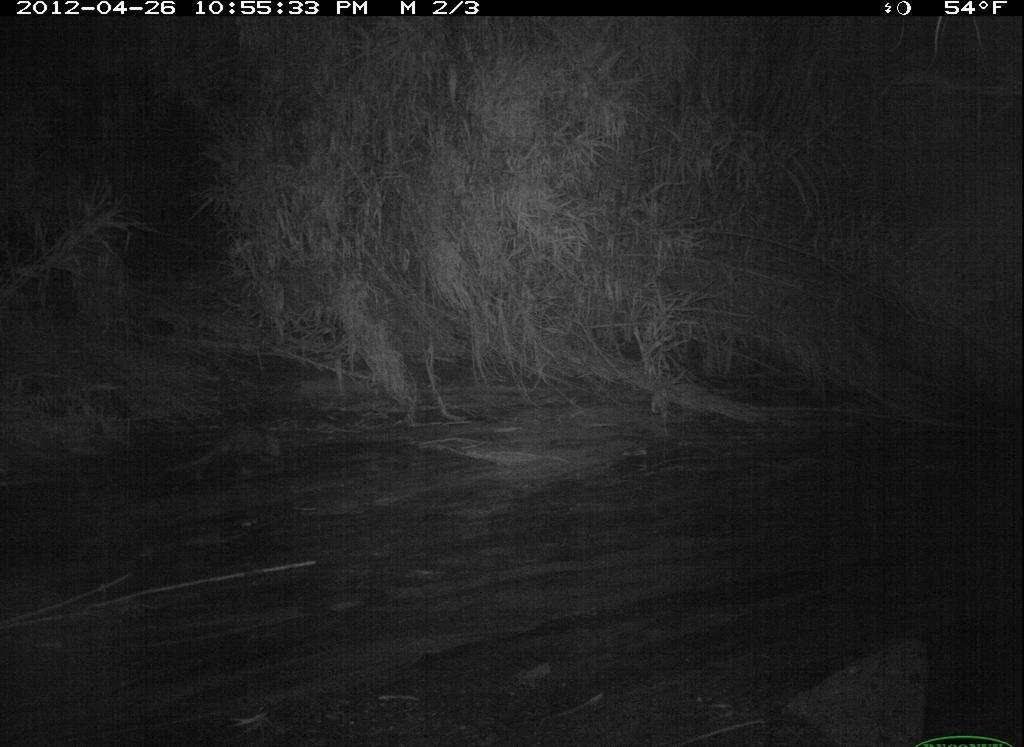opossum: (161, 404, 310, 497)
